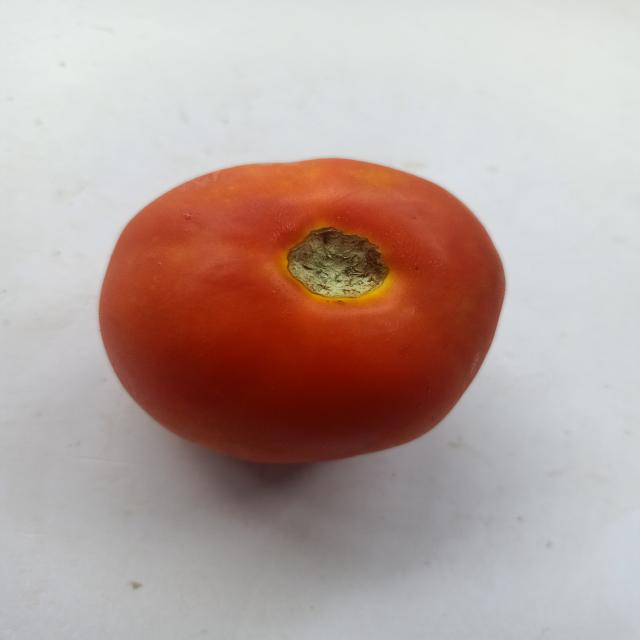Tomato: (76, 137, 530, 478)
